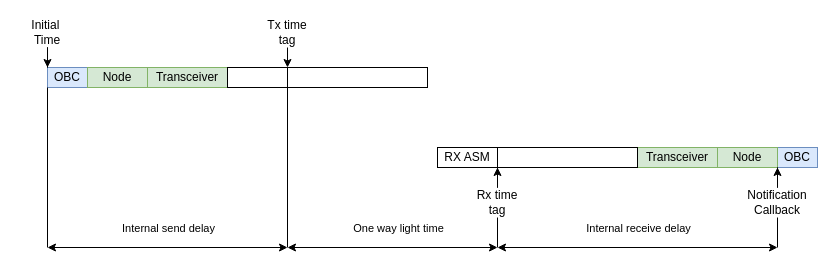
This 835x274 diagram has some shape labels left out. The shapes that lost their labels are listed below. From the top down, each one's centre as x and y in pixels, then its label:
At [257,77]: "TX ASM".
At [357,77]: "TX Remaining PDU".
At [567,157]: "RX Remaining PDU".
